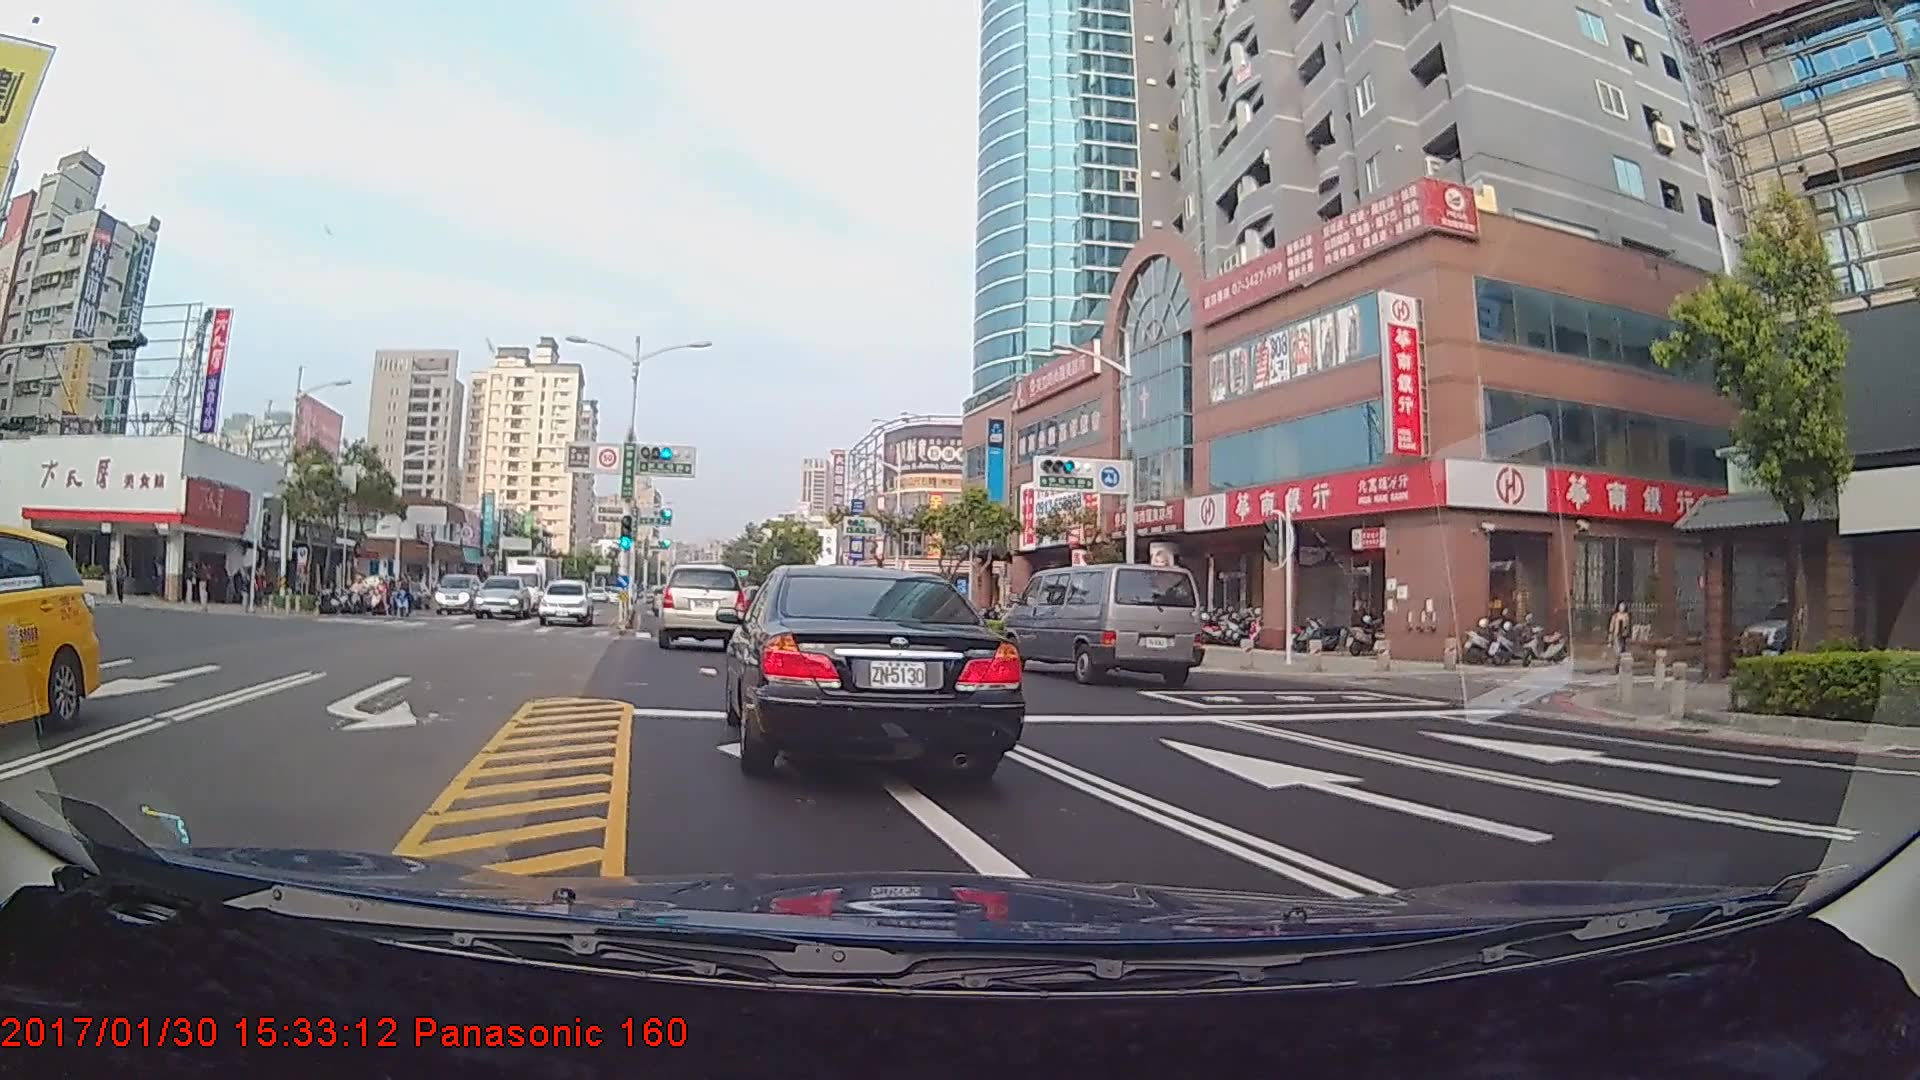pedestrian: (1610, 599, 1631, 663), (114, 556, 134, 606), (197, 559, 217, 606), (182, 555, 202, 605)
vehicle: (732, 558, 1018, 778), (1001, 561, 1200, 685), (0, 522, 99, 740), (656, 560, 748, 648), (514, 547, 568, 612), (474, 575, 533, 620), (538, 579, 594, 627), (437, 570, 490, 615)
